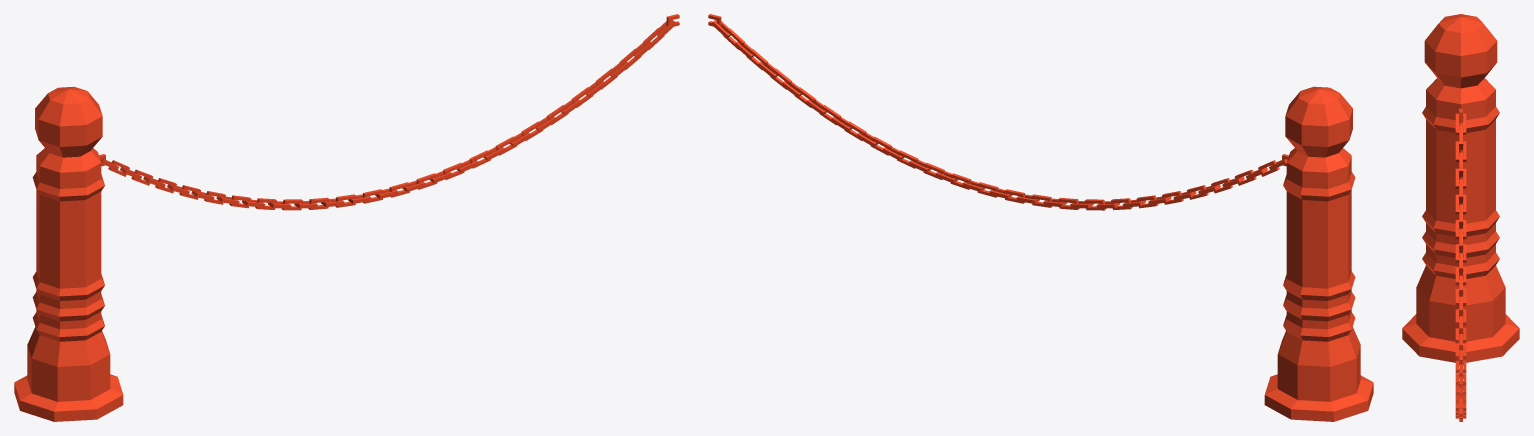
File: SM_Bollard_D_Chained_City.fbx
3 views of the same model, side by side, from view 1: azimuth 30°, elevation 25°; view 2: azimuth 150°, elevation 25°; view 3: azimuth 270°, elevation 25° (orthographic). The views are drawn at different scales.
Parts seen in each view (by area): view 1: SM_Bollard_D_Chained_City; view 2: SM_Bollard_D_Chained_City; view 3: SM_Bollard_D_Chained_City.
Part boxes in pixels (x1,y1,x2,y2): SM_Bollard_D_Chained_City: (14, 14, 679, 421); SM_Bollard_D_Chained_City: (708, 14, 1373, 421); SM_Bollard_D_Chained_City: (1402, 14, 1519, 421).
Size of the model in its own units: 2.07 by 0.9313 by 0.3077.
